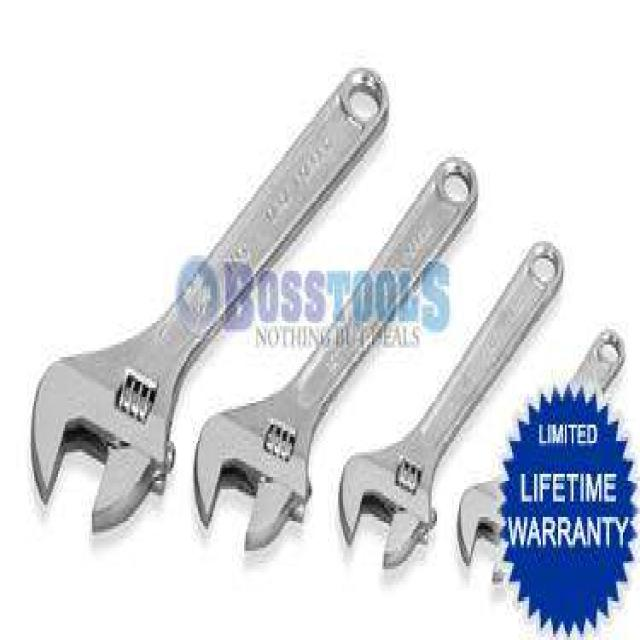wrench: (0, 223, 204, 538), (341, 386, 444, 586)
